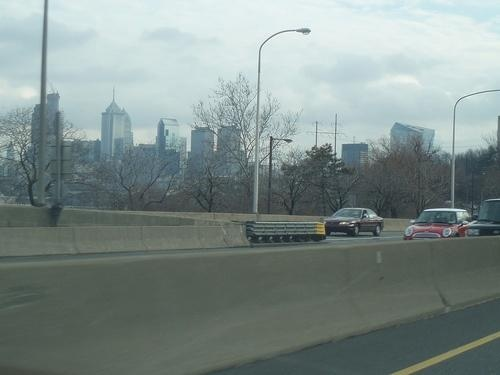car: (403, 207, 473, 241), (324, 207, 385, 238), (466, 197, 500, 238)
